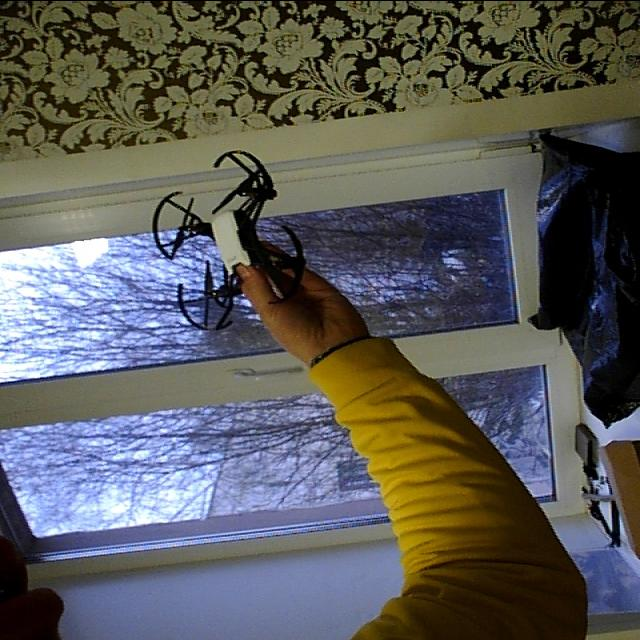drone: (138, 144, 330, 333)
